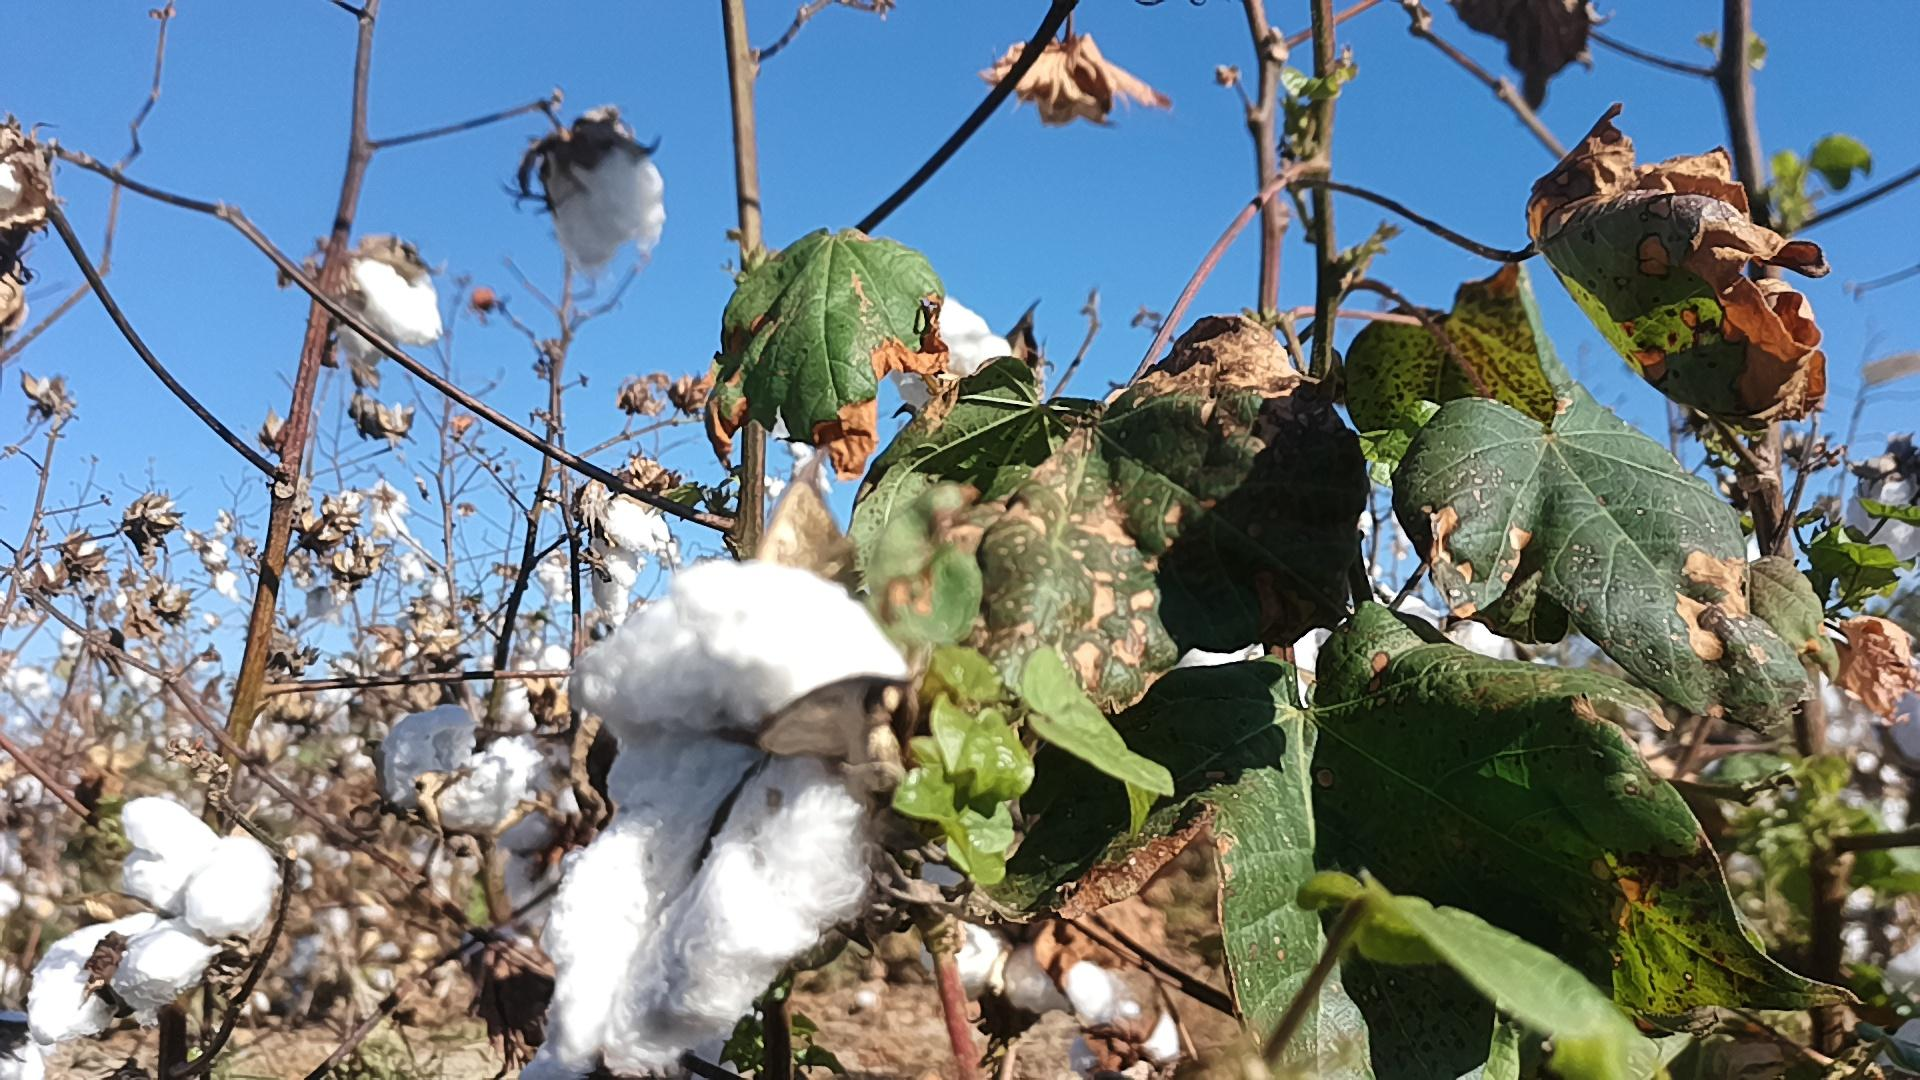cotton_ready: (514, 560, 906, 1080), (26, 795, 281, 1040), (919, 851, 1083, 1015), (378, 705, 580, 831), (546, 137, 669, 276), (895, 295, 1014, 417), (1065, 965, 1185, 1080), (588, 480, 674, 625), (336, 253, 446, 365), (1168, 622, 1321, 699), (1381, 588, 1523, 665), (508, 820, 582, 939), (0, 125, 44, 223), (0, 1010, 47, 1080)
